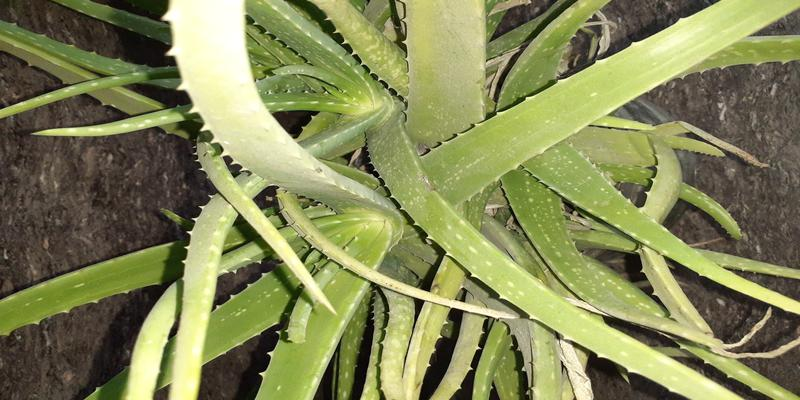Aloevera: (150, 16, 689, 359)
